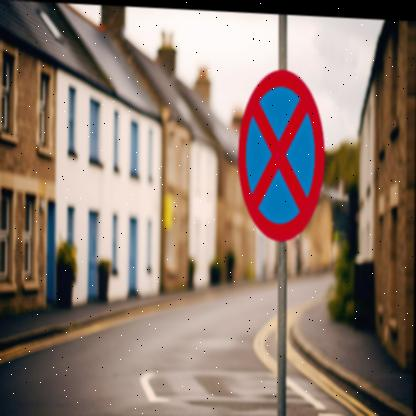No stopping: (236, 61, 327, 242)
